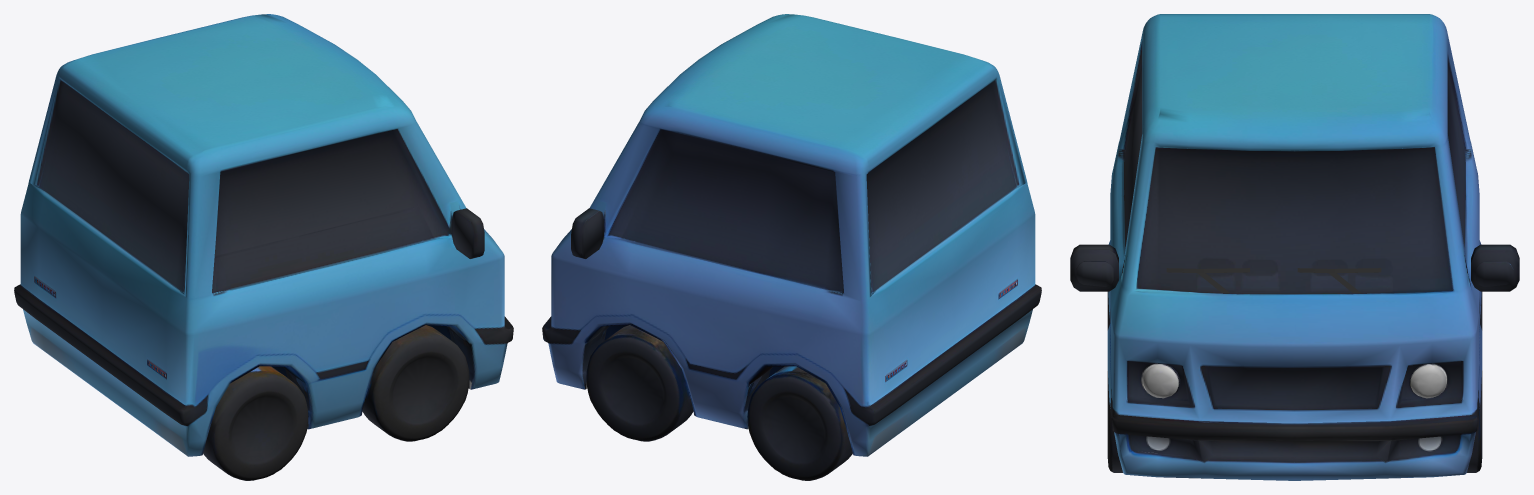
Rendered from obstacleCar.fbx.
The picture shows the model from 3 angles, left to right: view 1: azimuth 30°, elevation 25°; view 2: azimuth 150°, elevation 25°; view 3: azimuth 270°, elevation 25°; orthographic projection. The views are drawn at different scales.
Parts seen in each view (by area): view 1: ewe1; view 2: ewe1; view 3: ewe1.
Boxes of the visible parts, x1,y1,x2,y2 form: ewe1: [14, 14, 513, 480]; ewe1: [542, 14, 1041, 480]; ewe1: [1070, 14, 1519, 480].
Bounding box in the file's own units: 92.26 × 81.62 × 95.2.
Materials: 2 (1 with a texture image).
